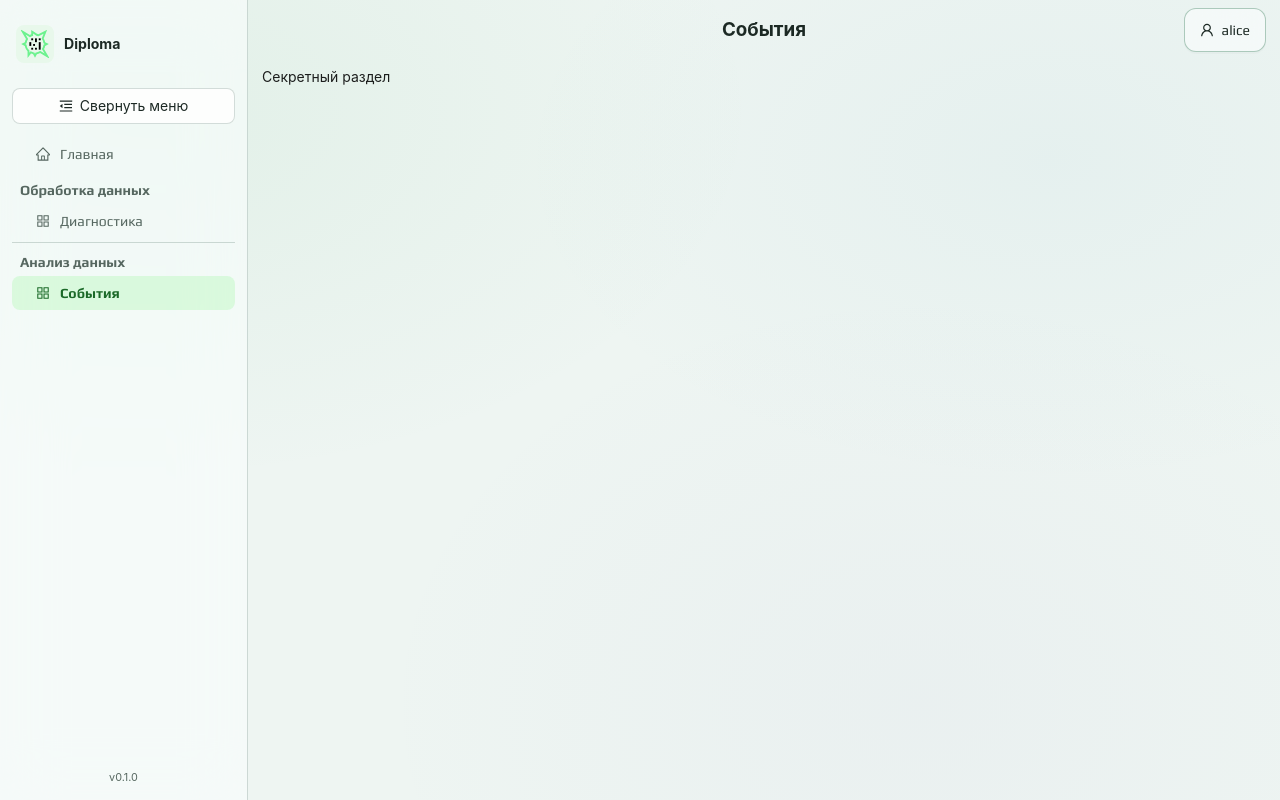
Scenario: protected UI › closes the non-modal account panel on Escape and restores focus
This screenshot has width=1280, height=800.
Click the button with aria-label "Аккаунт: alice" at (1225, 30), box [1184, 8, 1266, 52]
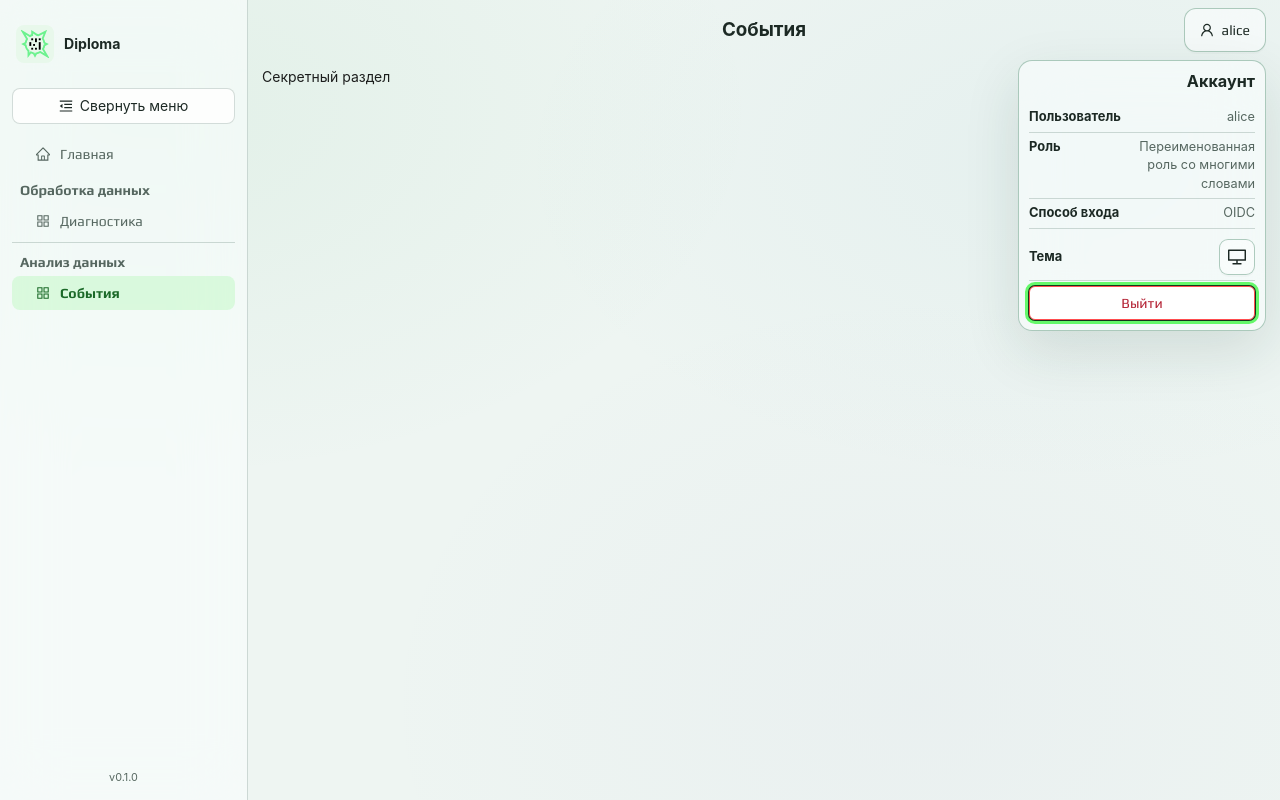
Press Escape
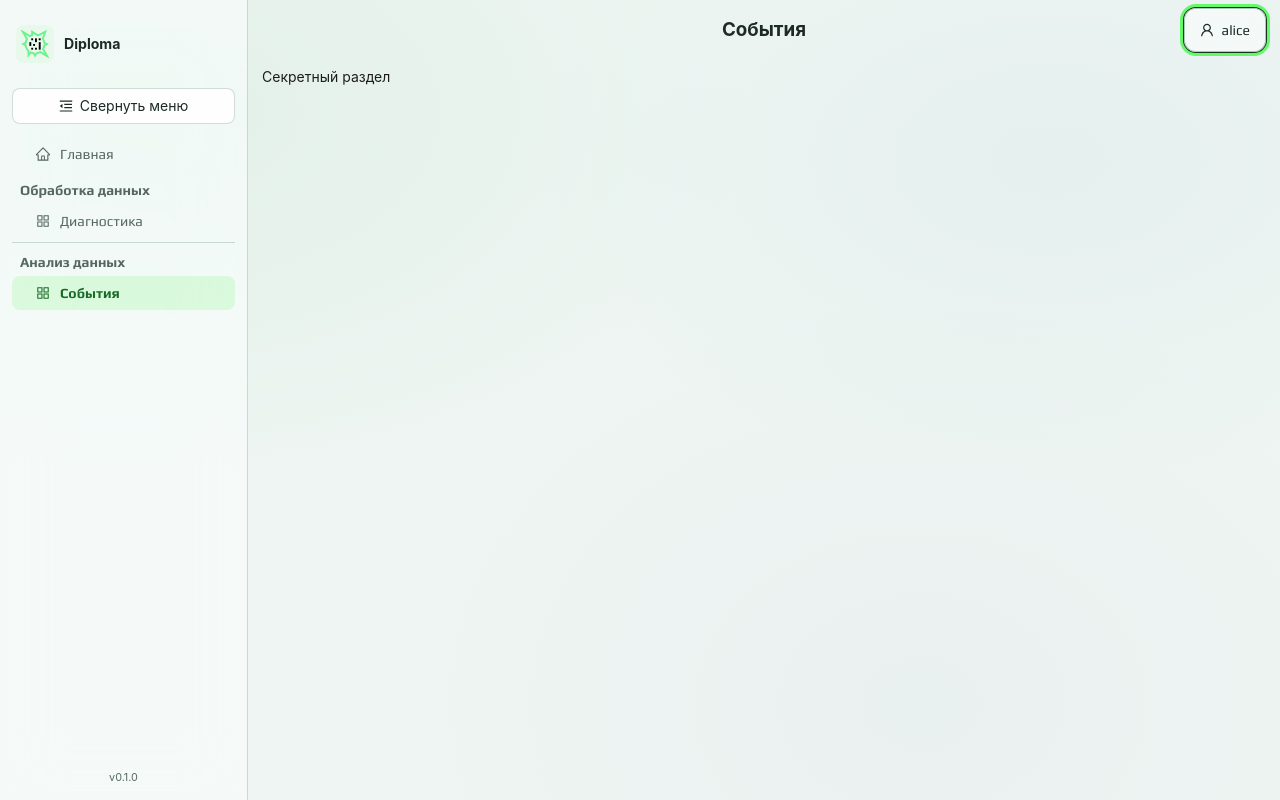
Check: the heading "Аккаунт" is gone
